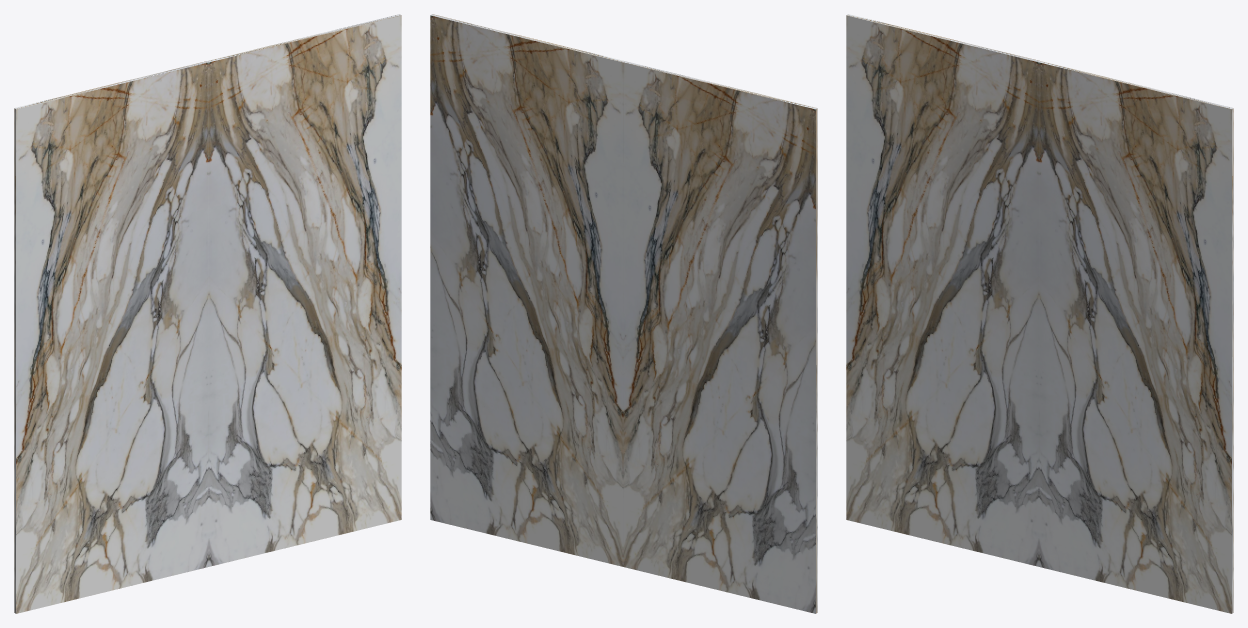
Rendered from calacatta_borghini_marble.glb.
The picture shows the model from 3 angles, left to right: view 1: azimuth 30°, elevation 25°; view 2: azimuth 150°, elevation 25°; view 3: azimuth 330°, elevation 25°; orthographic projection.
Visible parts, largest first — view 1: Box001, Box003; view 2: Box001, Box003; view 3: Box003, Box001.
Part boxes in pixels (box(x1,y1,x2,y2)): Box001: box(14, 61, 208, 613); Box003: box(207, 14, 401, 566); Box001: box(623, 61, 817, 613); Box003: box(430, 14, 624, 566); Box003: box(1039, 61, 1233, 613); Box001: box(846, 14, 1040, 566).
Bounding box in the file's own units: 2.4 × 3 × 0.02.
1 material, 1 textured.
